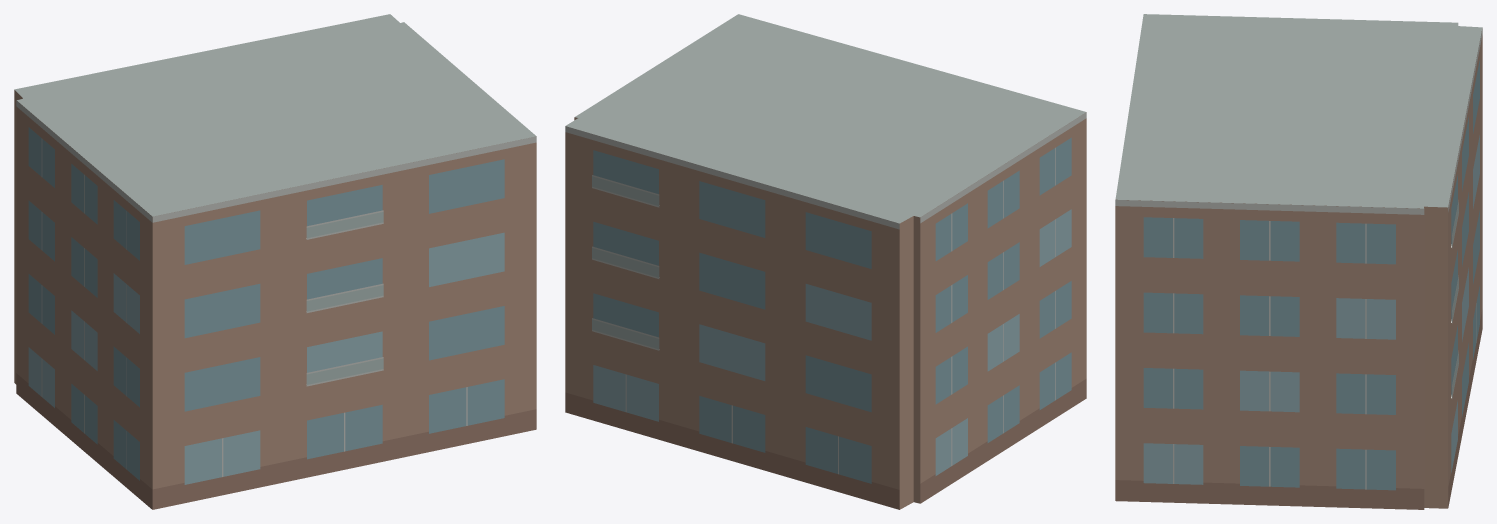
File: survey-upis-32994847.glb
3 views of the same model, side by side, from view 1: azimuth 30°, elevation 25°; view 2: azimuth 150°, elevation 25°; view 3: azimuth 270°, elevation 25° (orthographic). The views are drawn at different scales.
Parts seen in each view (by area): view 1: survey-upis-32994847.tmp; view 2: survey-upis-32994847.tmp; view 3: survey-upis-32994847.tmp.
Part boxes in pixels (box(x1,y1,x2,y2)): survey-upis-32994847.tmp: box(14, 14, 536, 509); survey-upis-32994847.tmp: box(565, 14, 1086, 509); survey-upis-32994847.tmp: box(1115, 14, 1482, 509).
Bounding box in the file's own units: 16.07 × 11.6 × 12.82.
